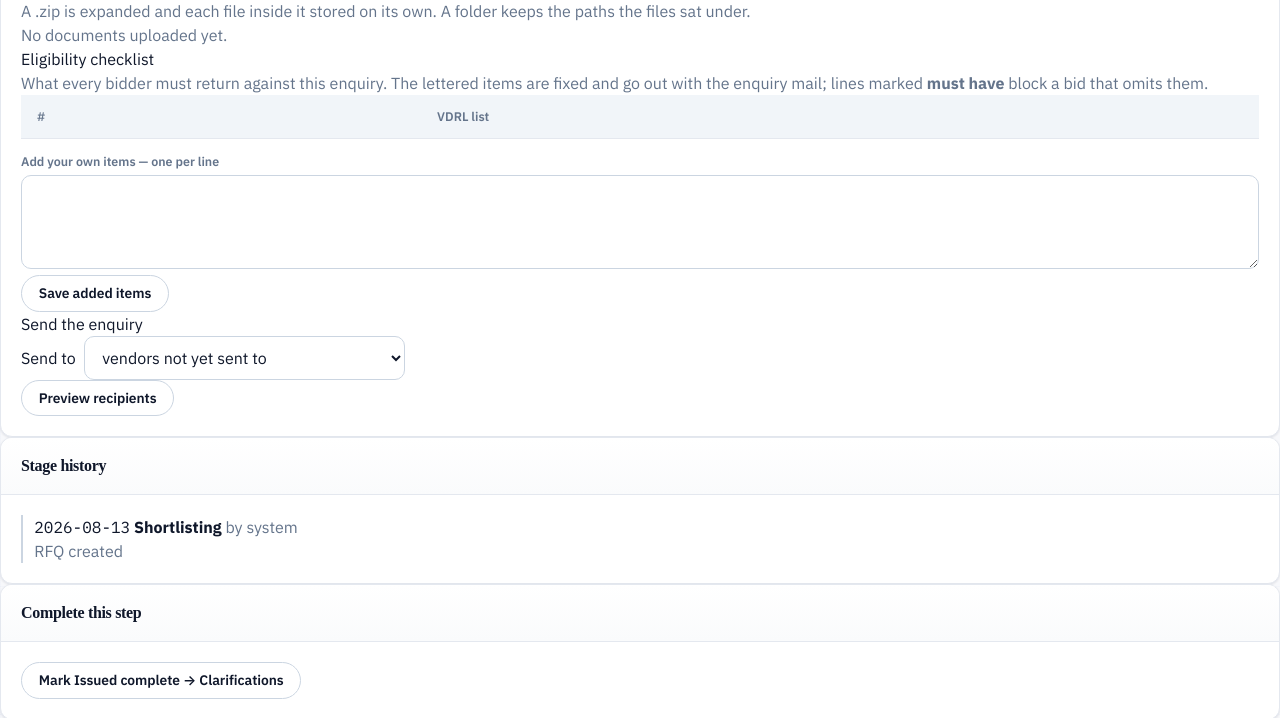
it: RfqWizard enquiry send — surviving a reload › does not reload the RFQ merely to preview who it would reach
(page scrolled)
Click the button "Preview recipients". click: (98, 398)
box: top-left (21, 380), bottom-right (174, 416)
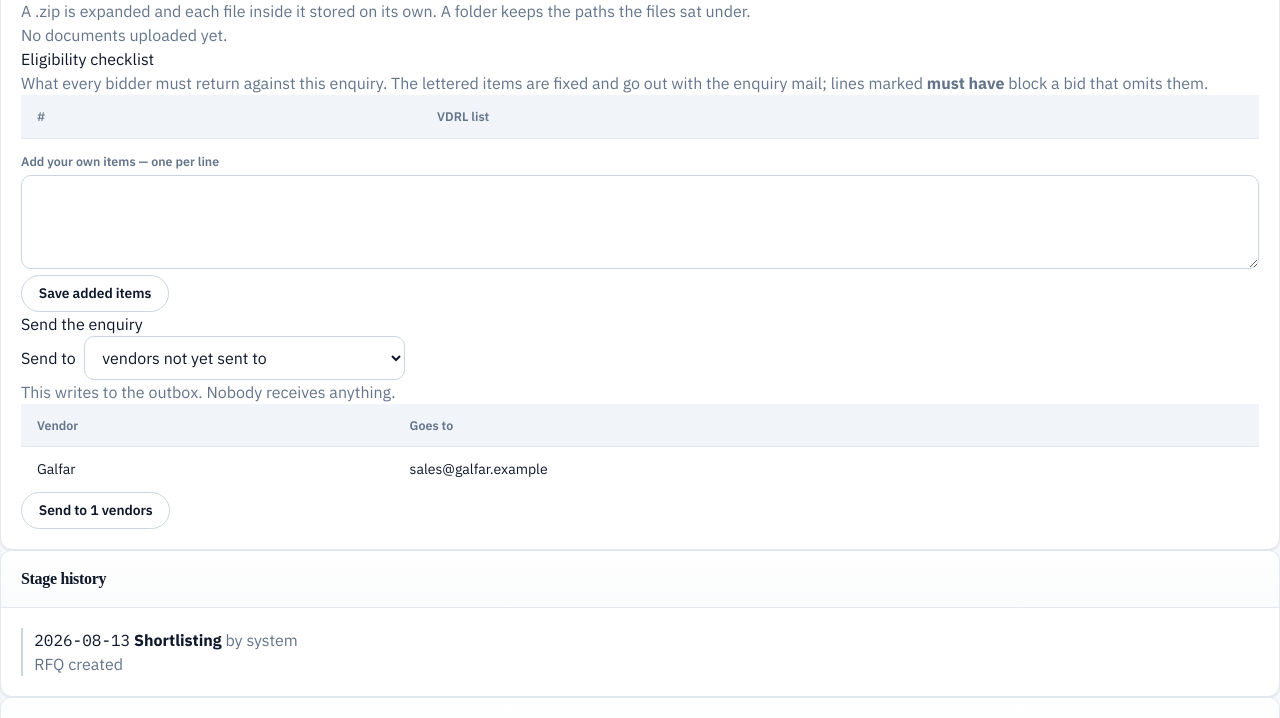
expect the text "sales@galfar.example" is shown: met, box top-left (410, 460), bottom-right (548, 478)
